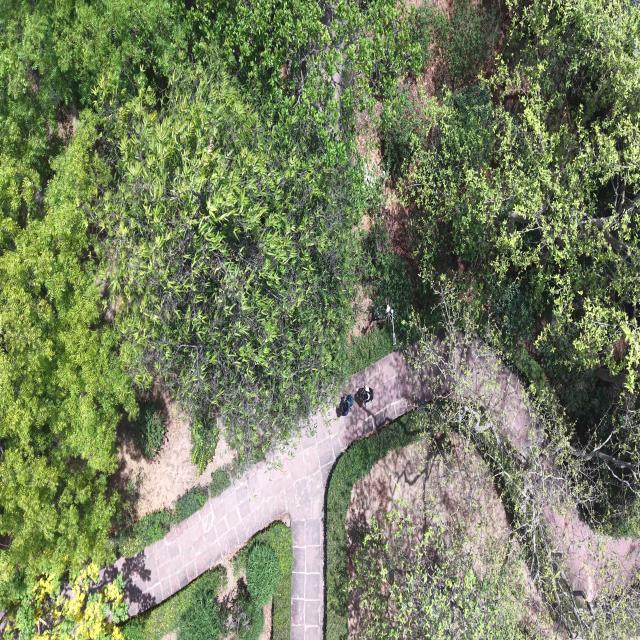DRY_AREA: (104, 352, 441, 639), (449, 343, 639, 602), (346, 433, 559, 638), (118, 396, 234, 518), (544, 504, 639, 602), (259, 599, 272, 639)
PATHWAYS: (103, 352, 431, 639), (104, 352, 412, 639)
VEGETATION_TREE: (0, 0, 639, 617), (0, 0, 403, 608), (93, 0, 430, 468), (380, 2, 639, 534), (381, 2, 639, 526), (92, 46, 358, 468), (0, 2, 181, 612), (382, 3, 639, 428), (327, 334, 639, 638), (410, 284, 639, 638), (401, 83, 637, 411), (0, 123, 135, 603), (326, 404, 536, 639), (0, 0, 185, 250), (198, 0, 433, 162), (350, 439, 539, 639), (350, 511, 533, 639), (325, 414, 423, 639), (121, 521, 292, 639), (349, 220, 437, 362), (3, 563, 128, 639), (108, 483, 221, 562), (417, 0, 506, 89), (122, 568, 226, 639), (234, 521, 293, 639), (258, 522, 293, 639), (108, 509, 177, 561), (342, 327, 394, 376), (178, 587, 222, 639), (246, 543, 280, 606), (229, 590, 264, 639), (135, 404, 166, 459), (172, 486, 208, 523), (209, 469, 230, 497)
